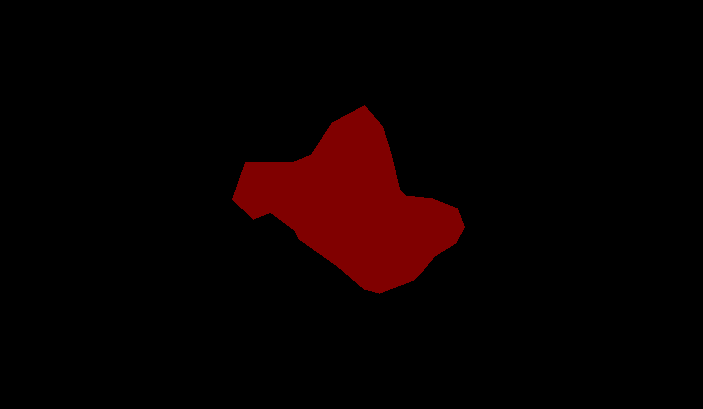fire: (232, 105, 464, 293)
